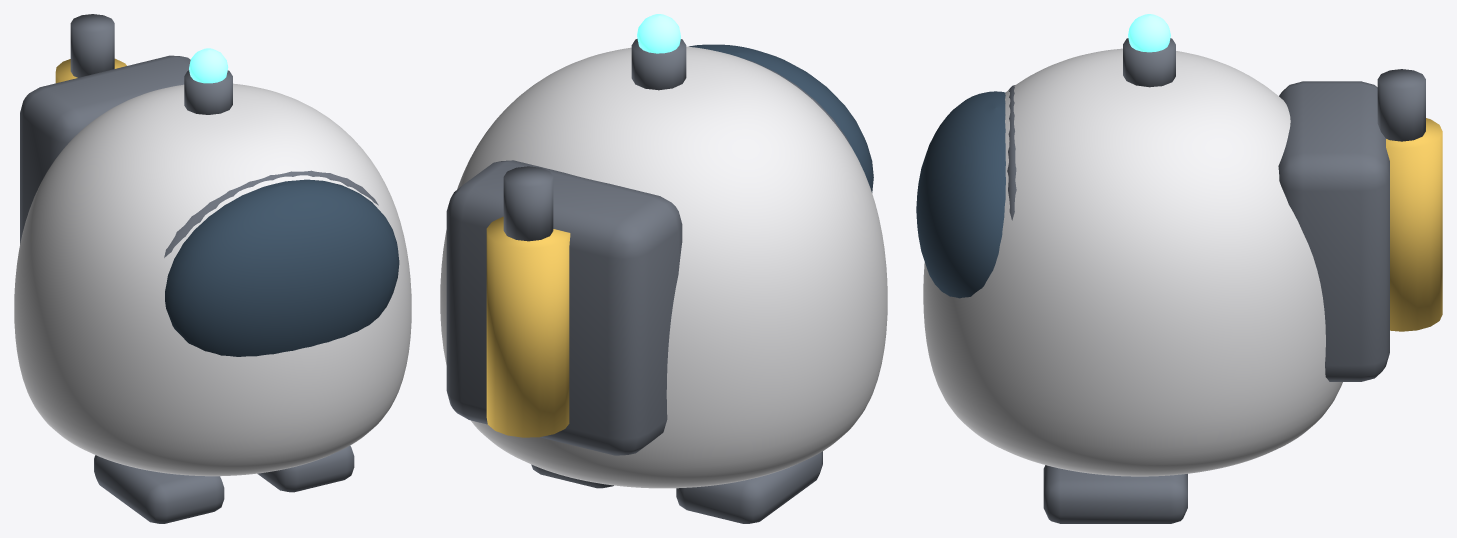
File: crew.glb
3 renders of one model, left to right at view 1: azimuth 30°, elevation 25°; view 2: azimuth 150°, elevation 25°; view 3: azimuth 270°, elevation 25°, orthographic. The views are drawn at different scales.
Parts seen in each view (by area): view 1: crew; view 2: crew; view 3: crew.
Part boxes in pixels (x1,y1,x2,y2): crew: (14,14,411,523); crew: (440,14,887,523); crew: (916,14,1442,523).
Size of the model in its own units: 0.9009 by 1.06 by 1.1.
